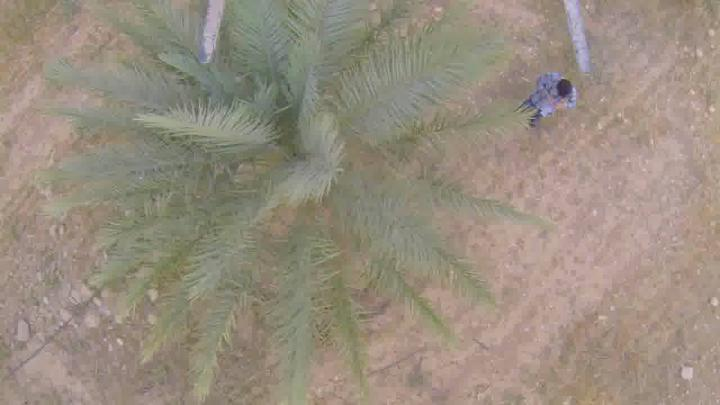Date-Palm-Crown: (156, 20, 419, 286)
